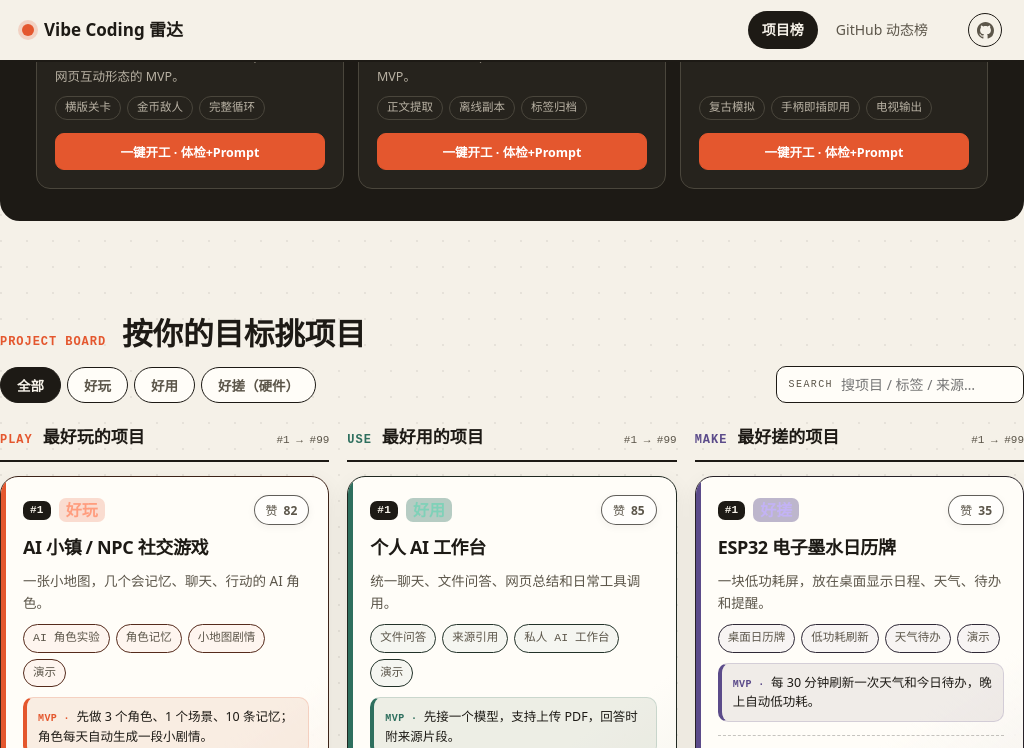
App › filters projects and opens and closes project details
(page scrolled)
Expected: the text "#1 → #99" next to "最好玩的项目" is shown, [276,432,329,450]
Expected: the text "#1 → #99" next to "最好用的项目" is shown, [624,432,677,450]
Type "WebGL 流体玩具" into the search field.
click(926, 385); type("WebGL 流体玩具")  # box [841,375,1011,394]
(page scrolled)
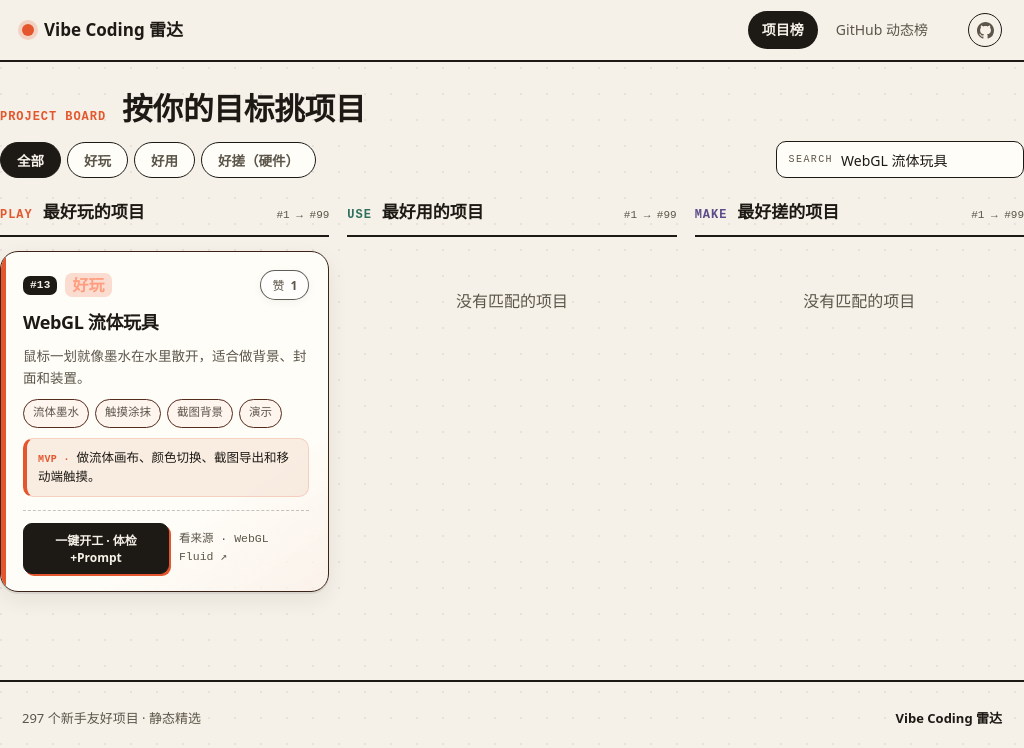
Now the heading "WebGL 流体玩具" is shown, box [23,310,158,334]
Click the button "一键开工 · 体检+Prompt".
click(96, 548)  # box [23,523,169,574]
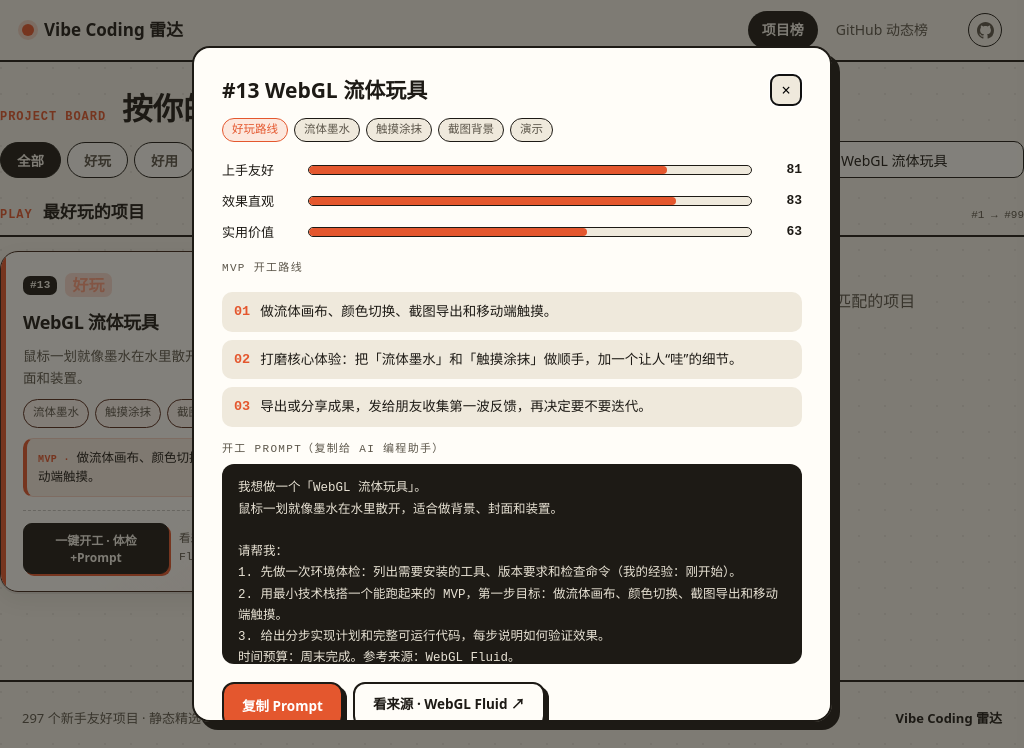
Now the dialog is shown, box [192,46,832,722]
Now the heading "#13 WebGL 流体玩具" is shown, box [222,76,427,104]
Click the button named "关闭".
click(786, 90)  # box [770,74,802,106]
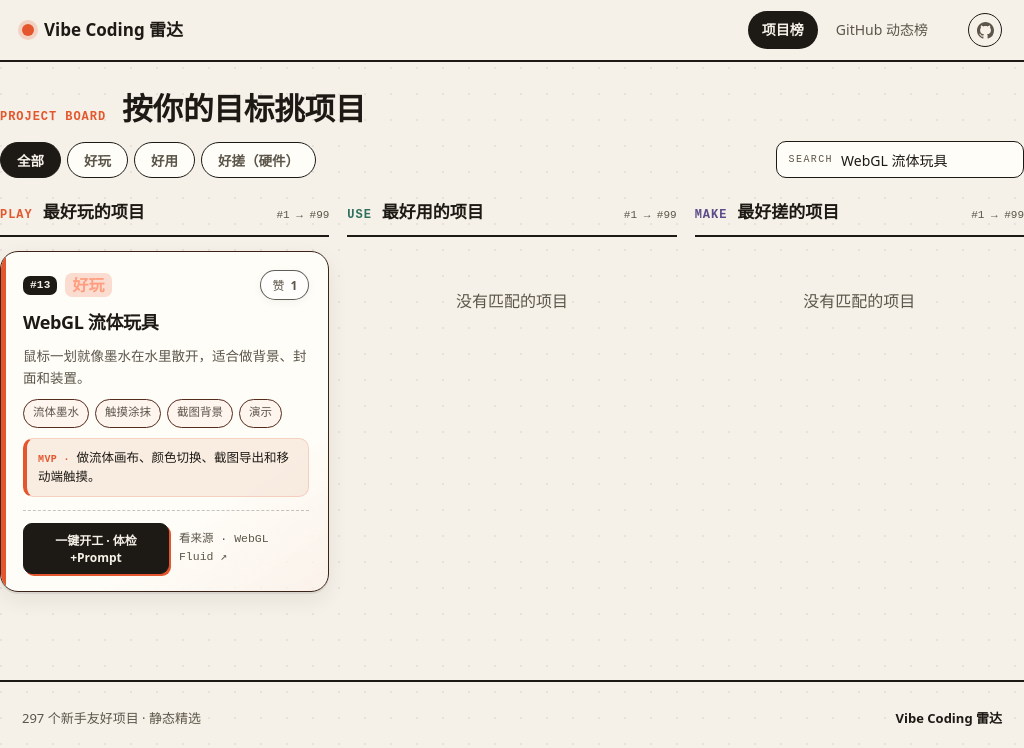
Now the dialog is gone
